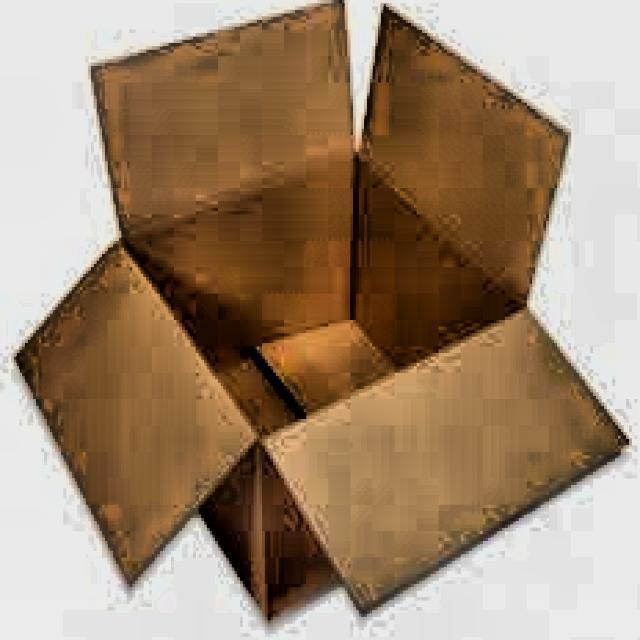cardboard: (14, 0, 632, 624)
